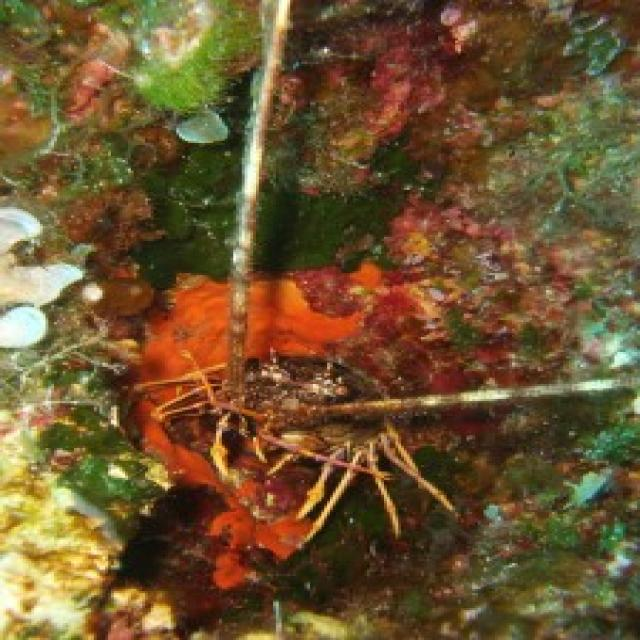lobsters: (22, 133, 640, 607)
